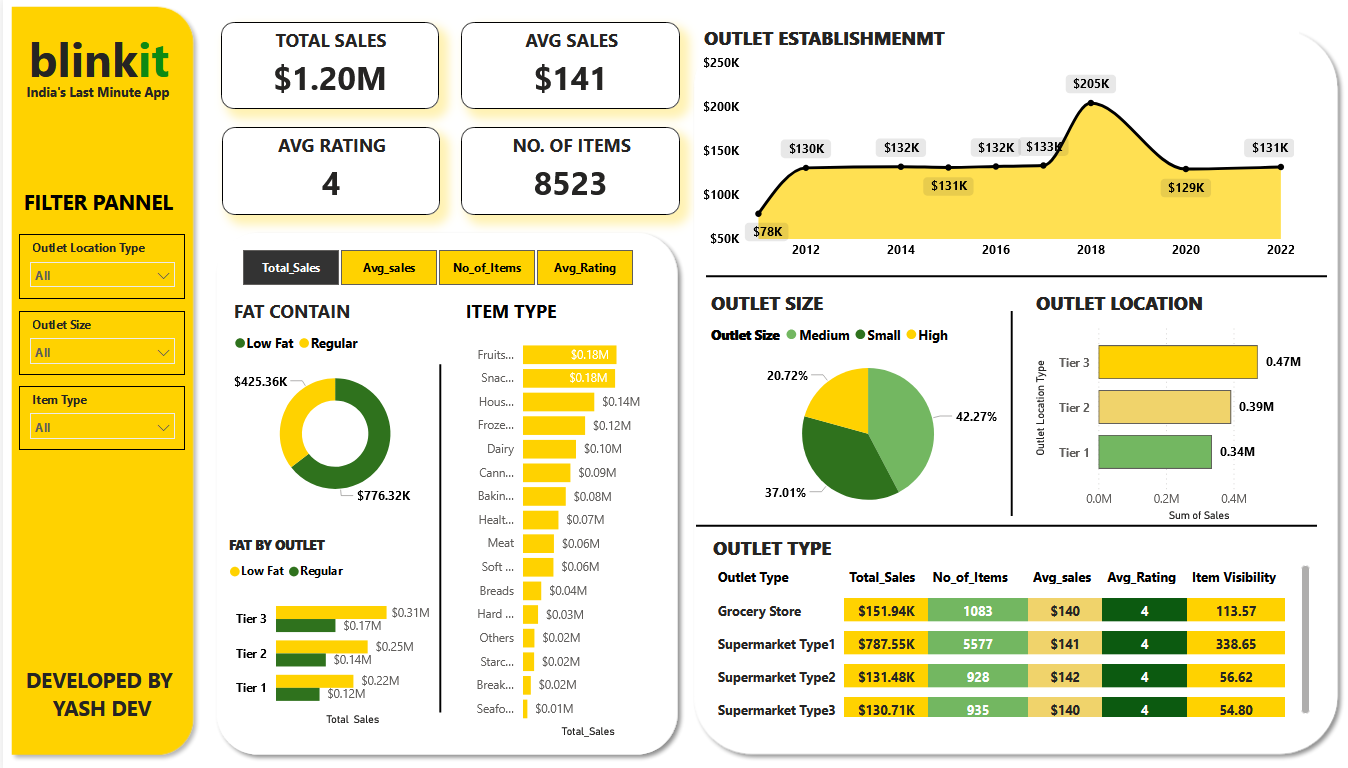

The page's visual inventory and layout, read from the dashboard file:
{"tool":"powerbi","page":{"name":"Page 1","canvas":[1400,800],"ordinal":0},"visuals":[{"type":"shape","box":[0,0,205.7,791.4],"z":0},{"type":"textbox","box":[12.9,24.3,171.4,75.7],"z":1000},{"type":"textbox","box":[14.3,82.9,167.1,32.9],"z":2000},{"type":"card","title":"TOTAL SALES","fields":{"Values":["Blinkit.Total_Sales"]},"box":[224.3,24.3,225.7,90],"z":3000},{"type":"card","title":"AVG SALES","fields":{"Values":["Blinkit.Avg_sales"]},"box":[472.9,24.3,227.1,90],"z":4000},{"type":"card","title":"AVG RATING","fields":{"Values":["Blinkit.Avg_Rating"]},"box":[225.7,132.9,225.7,91.4],"z":5000},{"type":"card","title":"NO. OF ITEMS","fields":{"Values":["Blinkit.No_of_Items"]},"box":[472.9,132.9,227.1,91.4],"z":6000},{"type":"shape","box":[211.4,234.3,494.3,557.1],"z":7000},{"type":"donutChart","title":"FAT CONTAIN","fields":{"Y":["Blinkit.Total_Sales"],"Category":["Blinkit.Item Fat Content"]},"box":[234.3,311.4,218.6,224.3],"z":8000},{"type":"slicer","fields":{"Values":["Metrics.Metrics"]},"box":[222.9,252.9,452.9,50],"z":9000},{"type":"clusteredBarChart","title":"FAT BY OUTLET","fields":{"Y":["Blinkit.Total_Sales"],"Category":["Blinkit.Outlet Location Type"],"Series":["Blinkit.Item Fat Content"]},"box":[228.6,555.7,217.1,200],"z":10000},{"type":"shape","box":[446.2,378.8,12.5,360],"z":11000},{"type":"barChart","title":"ITEM TYPE","fields":{"Y":["Blinkit.Total_Sales"],"Category":["Blinkit.Item Type"]},"box":[472.9,311.4,204.3,457.1],"z":12000},{"type":"shape","box":[705.7,24.3,682.9,765.7],"z":13000},{"type":"lineChart","title":"OUTLET ESTABLISHMENMT","fields":{"Category":["Blinkit.Outlet Establishment Year"],"Y":["Blinkit.Total_Sales"]},"box":[720,28.6,620,250],"z":14000},{"type":"shape","box":[725.7,272.9,642.9,30],"z":15000},{"type":"pieChart","title":"OUTLET SIZE","fields":{"Y":["Blinkit.Total_Sales"],"Category":["Blinkit.Outlet Size"]},"box":[725.7,302.9,335.7,242.9],"z":16000},{"type":"shape","box":[1035.7,322.9,12.9,212.9],"z":17000},{"type":"clusteredBarChart","title":"OUTLET LOCATION","fields":{"Category":["Blinkit.Outlet Location Type"],"Y":["Sum(Blinkit.Sales)"]},"box":[1061.4,302.9,297.1,242.9],"z":18000},{"type":"shape","box":[715.7,528.6,642.9,34.3],"z":19000},{"type":"pivotTable","title":"OUTLET TYPE","fields":{"Rows":["Blinkit.Outlet Type"],"Values":["Blinkit.Total_Sales","Blinkit.No_of_Items","Blinkit.Avg_sales","Blinkit.Avg_Rating","Sum(Blinkit.Item Visibility)"]},"box":[728.6,555.7,627.1,192.9],"z":20000},{"type":"slicer","fields":{"Values":["Blinkit.Outlet Location Type"]},"box":[17.1,244.3,171.4,67.1],"z":21000},{"type":"slicer","fields":{"Values":["Blinkit.Outlet Size"]},"box":[17.1,322.9,171.4,67.1],"z":22000},{"type":"slicer","fields":{"Values":["Blinkit.Item Type"]},"box":[17.1,400,171.4,67.1],"z":23000},{"type":"textbox","box":[17.1,191.4,172.9,42.9],"z":24000},{"type":"textbox","box":[14.3,684.3,175.7,64.3],"z":24001}]}

Visuals, with their boxes in screenshot pixels (x1, y1, x2, y2), scaled from the page's 1400x800 canvas onto the 1348x768 screenshot:
shape: 0 0 198 760
textbox: 12 23 177 96
textbox: 14 80 175 111
"TOTAL SALES" card: 216 23 433 110
"AVG SALES" card: 455 23 674 110
"AVG RATING" card: 217 128 435 215
"NO. OF ITEMS" card: 455 128 674 215
shape: 204 225 679 760
"FAT CONTAIN" donutChart: 226 299 436 514
slicer - Metrics.Metrics: 215 243 651 291
"FAT BY OUTLET" clusteredBarChart: 220 533 429 725
shape: 430 364 442 709
"ITEM TYPE" barChart: 455 299 652 738
shape: 679 23 1337 758
"OUTLET ESTABLISHMENMT" lineChart: 693 27 1290 267
shape: 699 262 1318 291
"OUTLET SIZE" pieChart: 699 291 1022 524
shape: 997 310 1010 514
"OUTLET LOCATION" clusteredBarChart: 1022 291 1308 524
shape: 689 507 1308 540
"OUTLET TYPE" pivotTable: 702 533 1305 719
slicer - Blinkit.Outlet Location Type: 16 235 181 299
slicer - Blinkit.Outlet Size: 16 310 181 374
slicer - Blinkit.Item Type: 16 384 181 448
textbox: 16 184 183 225
textbox: 14 657 183 719
